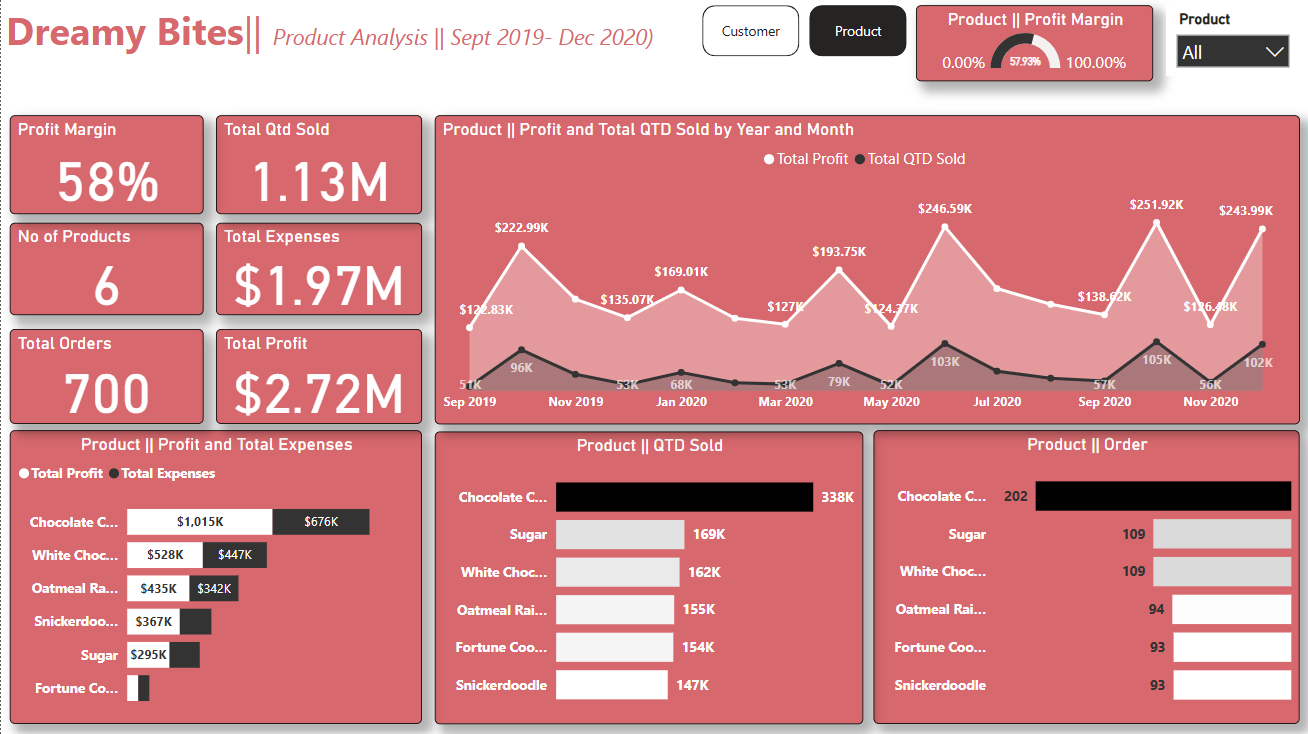

Layout of this report page (visuals, bound fields, positions):
{"tool":"powerbi","page":{"name":"Product","canvas":[1280,720],"ordinal":1},"visuals":[{"type":"clusteredBarChart","title":"Product || Order","fields":{"Y":["Calculated Measures.Total Order"],"Category":["Order_fact.Product"]},"box":[853.5,421.9,417,287.4],"z":0},{"type":"clusteredBarChart","title":"Product || QTD Sold","fields":{"Y":["Calculated Measures.Total QTD Sold"],"Category":["Order_fact.Product"]},"box":[424.3,423.1,419.4,286.1],"z":1000},{"type":"barChart","title":"Product || Profit and Total Expenses","fields":{"Y":["Calculated Measures.Total Profit","Calculated Measures.Total Expenses"],"Category":["Order_fact.Product"]},"box":[8.6,421.9,403.5,287.4],"z":2000},{"type":"card","title":"No of Products","fields":{"Values":["Calculated Measures.No of Product"]},"box":[8.6,218.9,189.5,90.5],"z":3000},{"type":"card","title":"Total Orders","fields":{"Values":["Calculated Measures.Total Order"]},"box":[8.6,322.8,189.5,92.9],"z":4000},{"type":"card","title":"Total Expenses","fields":{"Values":["Calculated Measures.Total Expenses"]},"box":[210.3,218.9,201.8,90.5],"z":5000},{"type":"card","title":"Total Profit","fields":{"Values":["Calculated Measures.Total Profit"]},"box":[210.3,322.8,201.8,92.9],"z":6000},{"type":"gauge","title":"Product || Profit Margin","fields":{"Y":["Calculated Measures.Profit Margin"]},"box":[895.1,6.1,232.3,74.6],"z":7000},{"type":"textbox","box":[0,0,671.3,68.5],"z":8000},{"type":"slicer","fields":{"Values":["Order_fact.Product"]},"box":[1139.7,6.1,130.8,68.5],"z":9000},{"type":"pageNavigator","box":[686,6.1,200.5,50.1],"z":10000},{"type":"card","title":"Total Qtd Sold","fields":{"Values":["Calculated Measures.Total QTD Sold"]},"box":[210.3,113.7,201.8,96.6],"z":11000},{"type":"card","title":"Profit Margin","fields":{"Values":["Calculated Measures.Profit Margin"]},"box":[8.6,113.7,189.5,96.6],"z":12000},{"type":"areaChart","title":"Product || Profit and Total QTD Sold by Year and Month","fields":{"Category":["Order_fact.Date.Variation.Date Hierarchy.Year","Order_fact.Date.Variation.Date Hierarchy.Month"],"Y":["Calculated Measures.Total Profit","Calculated Measures.Total QTD Sold"]},"box":[424.3,113.7,846.2,302],"z":13000}]}

Visuals, with their boxes in screenshot pixels (x1, y1, x2, y2), scaled from the page's 1280x720 canvas onto the 1308x734 screenshot:
"Product || Order" clusteredBarChart: [x1=872, y1=430, x2=1298, y2=723]
"Product || QTD Sold" clusteredBarChart: [x1=434, y1=431, x2=862, y2=723]
"Product || Profit and Total Expenses" barChart: [x1=9, y1=430, x2=421, y2=723]
"No of Products" card: [x1=9, y1=223, x2=202, y2=315]
"Total Orders" card: [x1=9, y1=329, x2=202, y2=424]
"Total Expenses" card: [x1=215, y1=223, x2=421, y2=315]
"Total Profit" card: [x1=215, y1=329, x2=421, y2=424]
"Product || Profit Margin" gauge: [x1=915, y1=6, x2=1152, y2=82]
textbox: [x1=0, y1=0, x2=686, y2=70]
slicer - Order_fact.Product: [x1=1165, y1=6, x2=1298, y2=76]
pageNavigator: [x1=701, y1=6, x2=906, y2=57]
"Total Qtd Sold" card: [x1=215, y1=116, x2=421, y2=214]
"Profit Margin" card: [x1=9, y1=116, x2=202, y2=214]
"Product || Profit and Total QTD Sold by Year and Month" areaChart: [x1=434, y1=116, x2=1298, y2=424]
